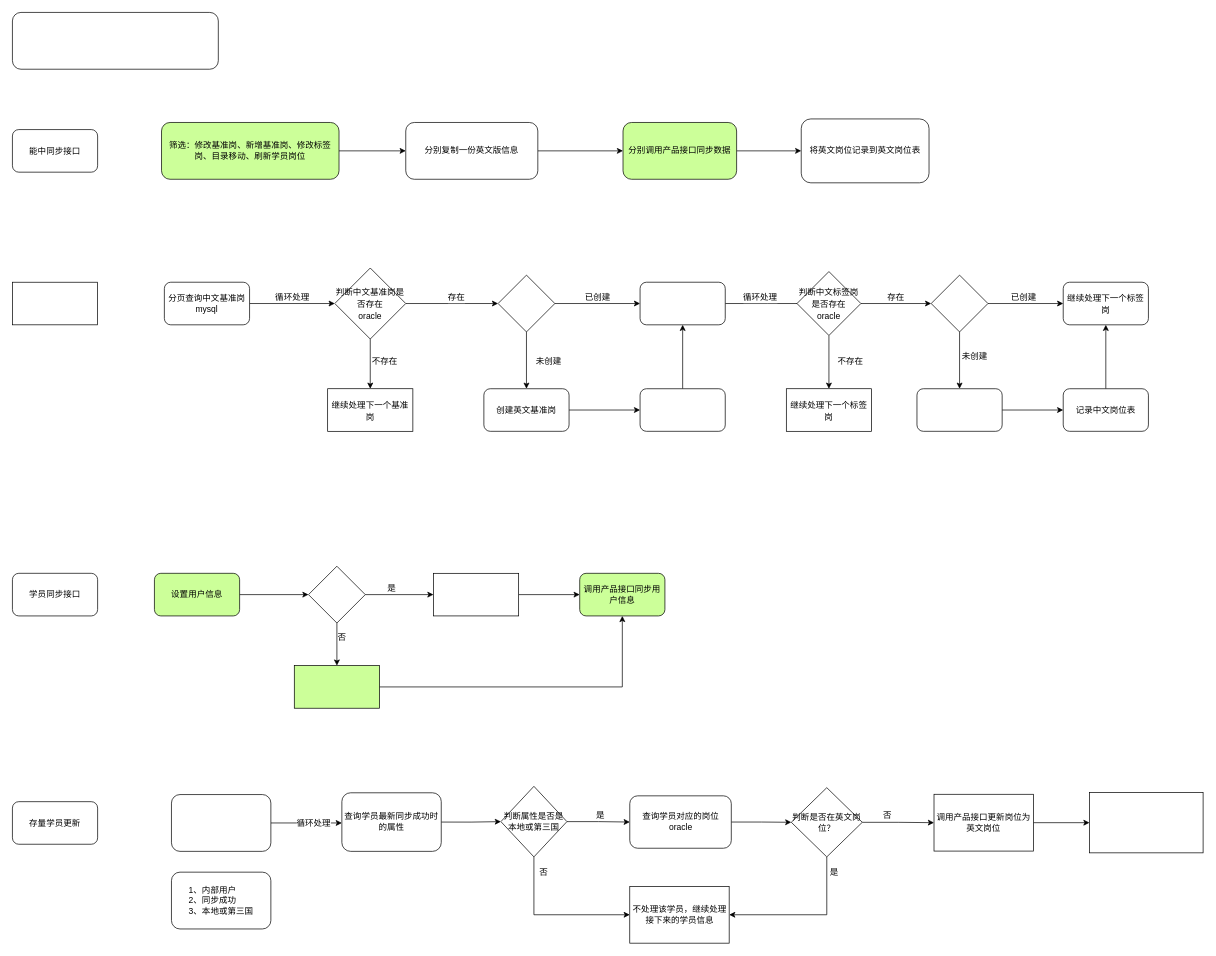
This 1216x956 diagram has some shape labels left out. Here are the shapes that lost their labels. From the top down, the centre of each, then its label:
(x=115, y=40): 中文岗位编号、名称加上前缀 Local- ，则表示为英文的岗位编号、名称
(x=55, y=303): 存量岗位复制
(x=526, y=303): 英文基准岗位是否已创建 oracle
(x=682, y=303): 查询该基准岗下的所有标签岗 mysql
(x=959, y=303): 英文标签岗位是否已创建 oracle
(x=682, y=409): 记录英文岗位表
(x=959, y=409): 创建英文标签岗
(x=336, y=594): 内部用户属性是否为本地或第三国？
(x=476, y=594): 设置岗位编号为英文岗位编号
(x=336, y=686): 设置岗位编号为中文岗位编号
(x=221, y=822): 查询属于英文岗位的学员 mysql
(x=1146, y=822): 记录到学员岗位更新同步表
